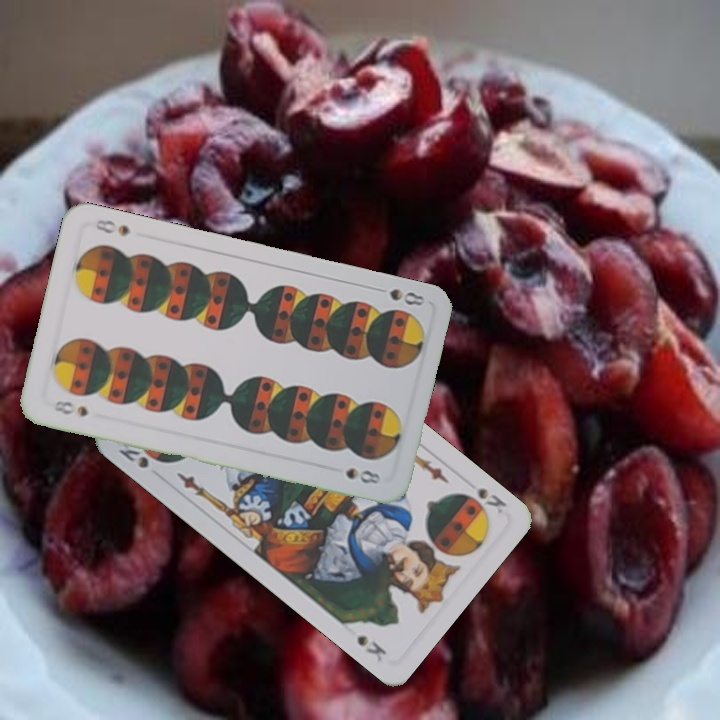S8: (369, 282, 427, 309), (47, 396, 91, 419)
SK: (456, 483, 510, 519), (114, 438, 152, 471)
